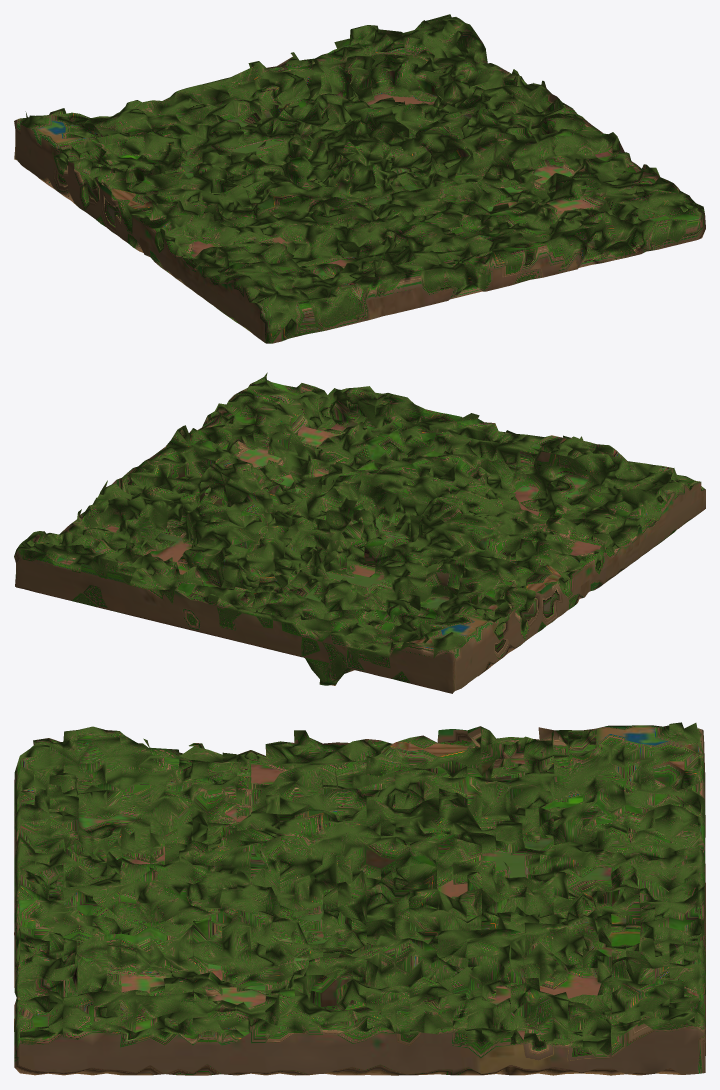
File: bloques.glb
3 views of the same model, one above another, from view 1: azimuth 30°, elevation 25°; view 2: azimuth 150°, elevation 25°; view 3: azimuth 270°, elevation 25° (orthographic). The views are drawn at different scales.
Bounding box in the file's own units: 2 × 0.3195 × 1.99.
Materials: 1 (1 with a texture image).
